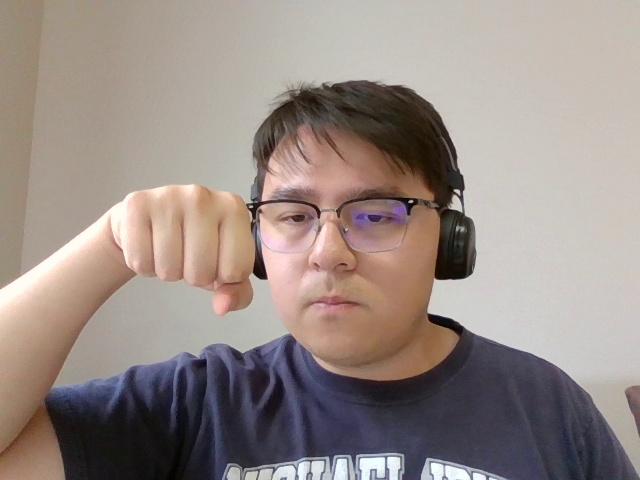Yes: (67, 161, 278, 327)
